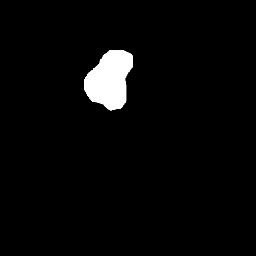mass: (90, 53, 129, 110)
